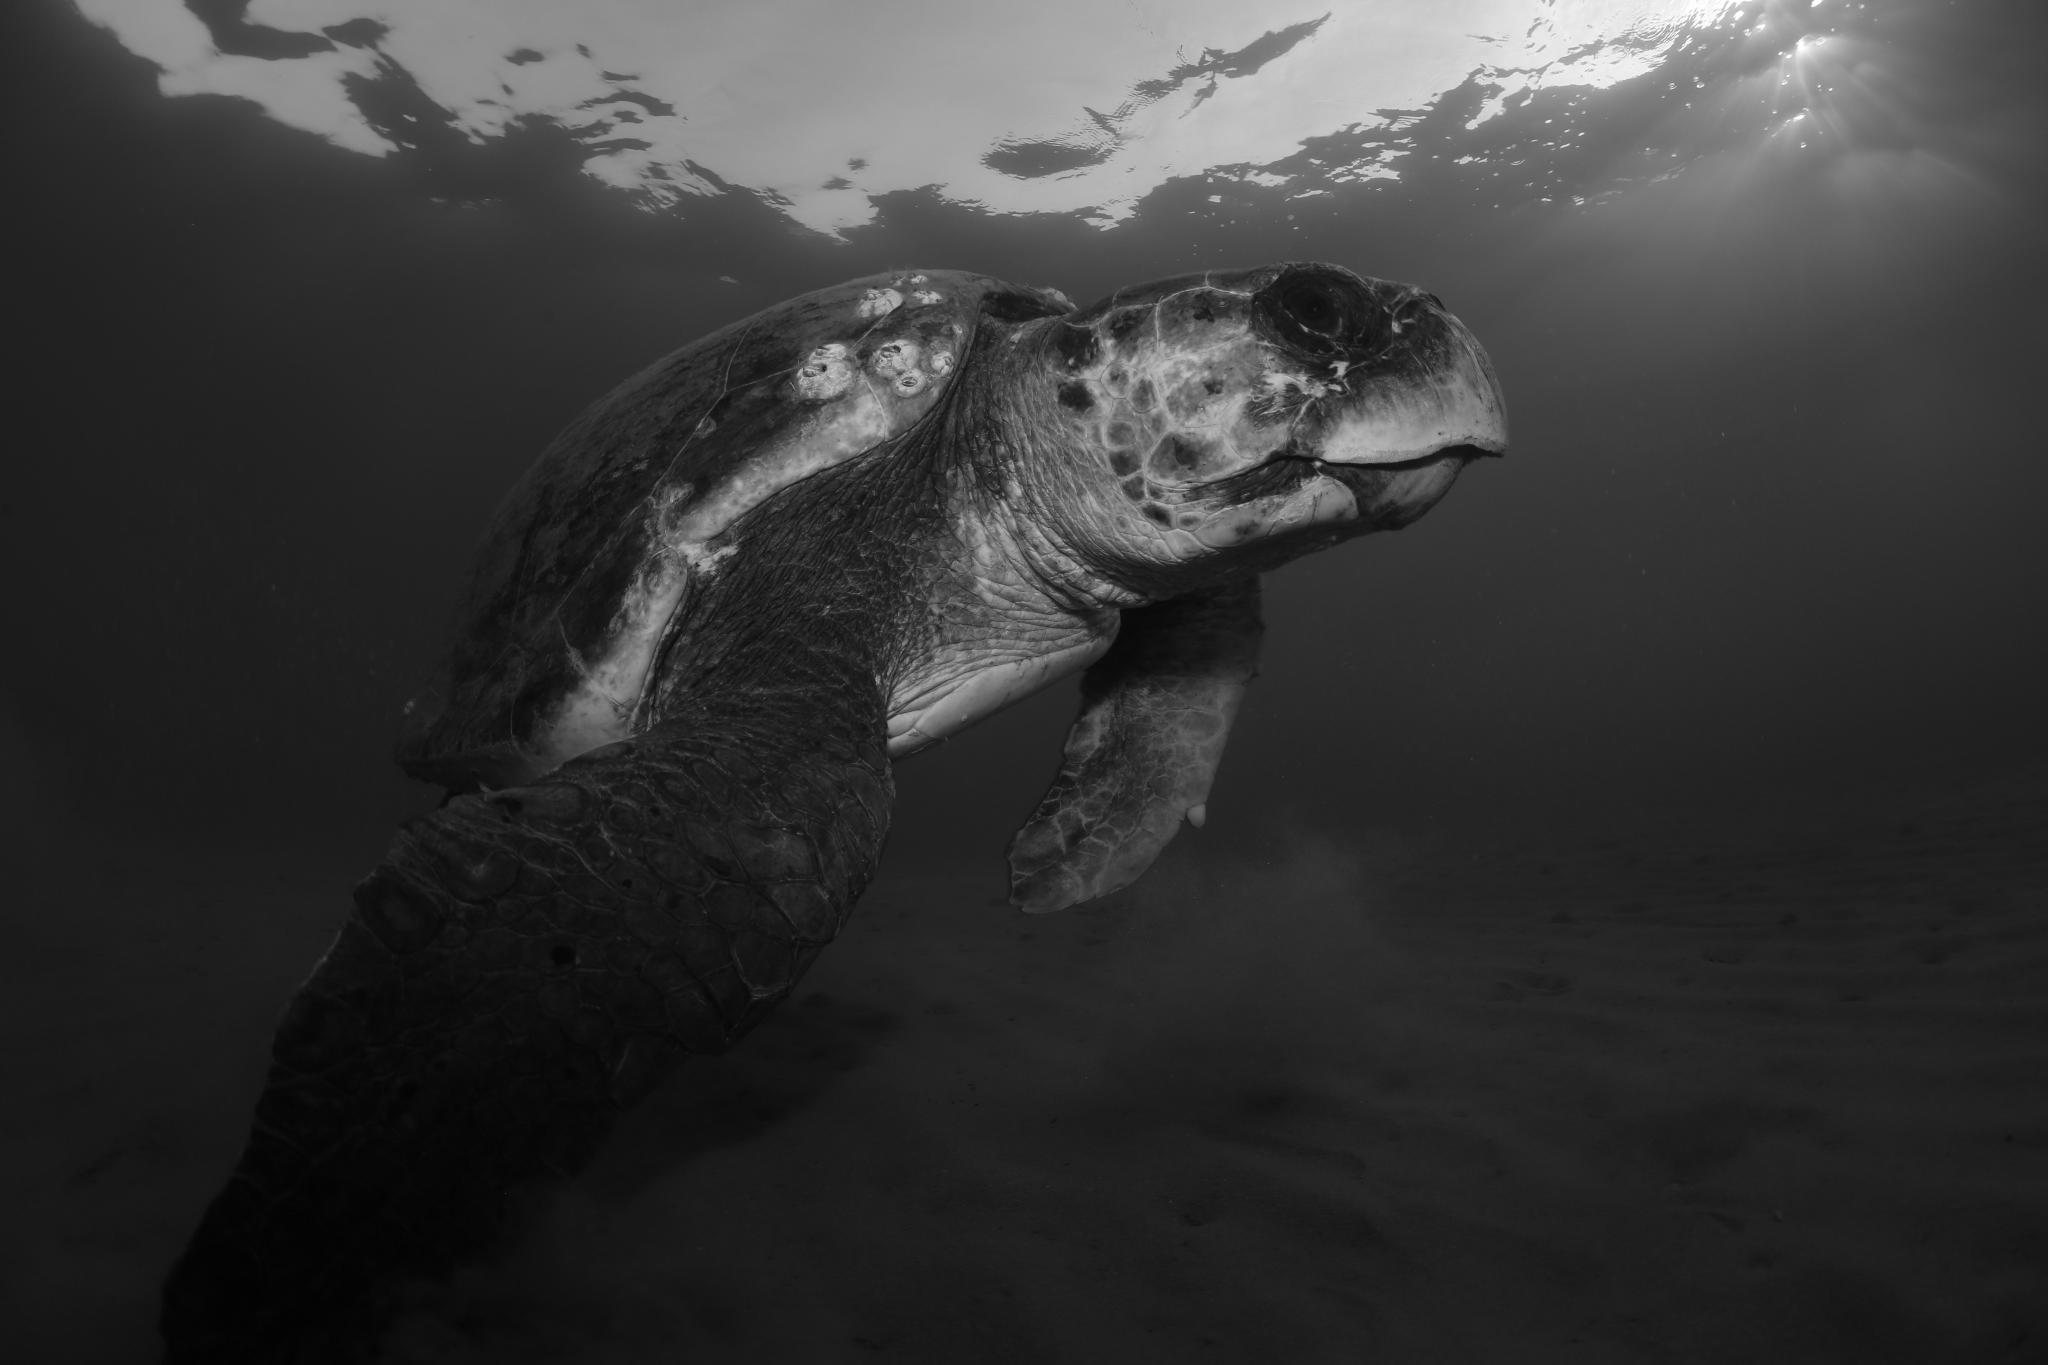Head: (1049, 263, 1507, 593)
